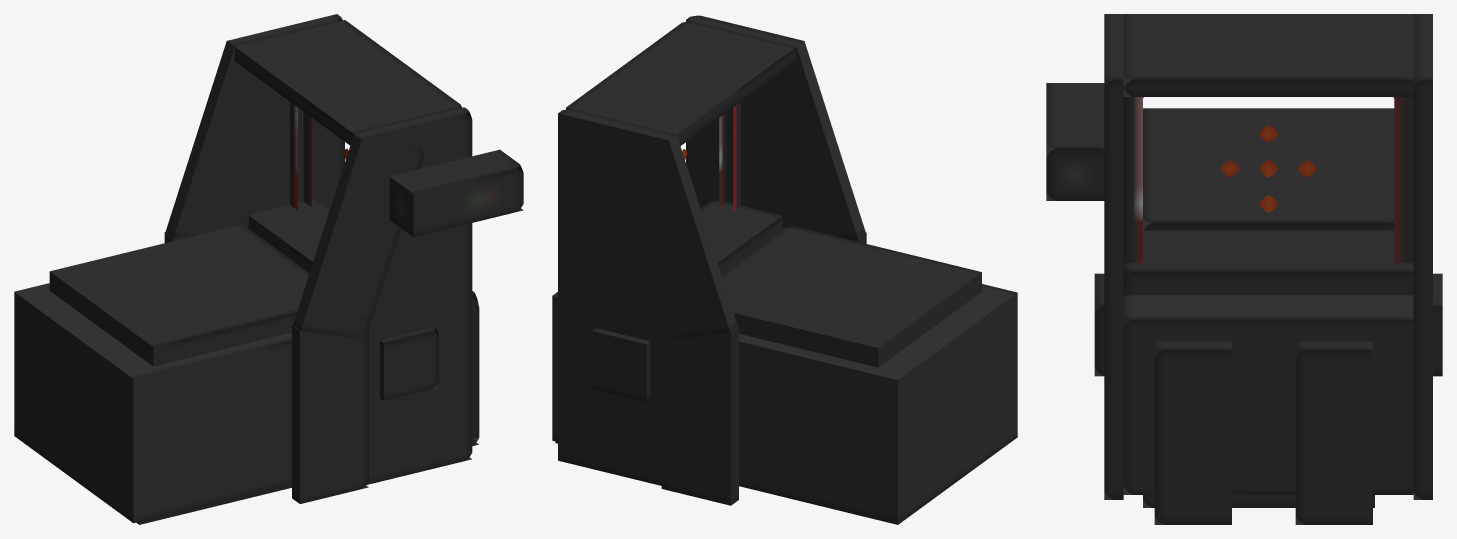
Rendered from eotech_sight.obj.
3 views of the same model, side by side, from view 1: azimuth 30°, elevation 25°; view 2: azimuth 150°, elevation 25°; view 3: azimuth 270°, elevation 25° (orthographic). The views are drawn at different scales.
Visible parts, largest first — view 1: Shape3, Shape2, Shape11, Shape7, Shape5, Shape9, Shape1, Shape10, Shape4, Shape16, Shape14, Shape15; view 2: Shape3, Shape1, Shape11, Shape7, Shape8, Shape5, Shape4, Shape2, Shape16, Shape14, Shape15; view 3: Shape3, Shape11, Shape7, Shape14, Shape6, Shape12, Shape1, Shape2, Shape15, Shape10, Shape16, Shape13.
Part boxes in pixels (bbox=[...]): Shape3: bbox=[14, 283, 478, 523]; Shape2: bbox=[355, 107, 472, 484]; Shape11: bbox=[49, 224, 309, 366]; Shape7: bbox=[234, 20, 461, 145]; Shape5: bbox=[293, 134, 424, 338]; Shape9: bbox=[292, 316, 368, 503]; Shape1: bbox=[227, 14, 344, 228]; Shape10: bbox=[389, 149, 523, 237]; Shape4: bbox=[165, 41, 274, 238]; Shape16: bbox=[380, 327, 438, 400]; Shape14: bbox=[248, 198, 330, 272]; Shape15: bbox=[290, 102, 348, 210]; Shape3: bbox=[552, 284, 1017, 524]; Shape1: bbox=[558, 109, 675, 487]; Shape11: bbox=[721, 226, 981, 367]; Shape7: bbox=[566, 21, 796, 145]; Shape8: bbox=[661, 315, 738, 505]; Shape5: bbox=[746, 41, 865, 239]; Shape4: bbox=[606, 134, 737, 340]; Shape2: bbox=[686, 15, 803, 228]; Shape16: bbox=[591, 328, 650, 402]; Shape14: bbox=[700, 200, 782, 273]; Shape15: bbox=[682, 102, 740, 210]; Shape3: bbox=[1123, 219, 1413, 494]; Shape11: bbox=[1143, 108, 1394, 230]; Shape7: bbox=[1123, 14, 1413, 96]; Shape14: bbox=[1123, 230, 1413, 295]; Shape6: bbox=[1295, 341, 1372, 524]; Shape12: bbox=[1154, 341, 1231, 524]; Shape1: bbox=[1413, 14, 1432, 499]; Shape2: bbox=[1104, 14, 1123, 499]; Shape15: bbox=[1123, 97, 1413, 279]; Shape10: bbox=[1046, 83, 1104, 200]; Shape16: bbox=[1094, 273, 1442, 376]; Shape13: bbox=[1143, 473, 1374, 507].
Bounding box in the file's own units: 1.62 × 1.53 × 1.28.
